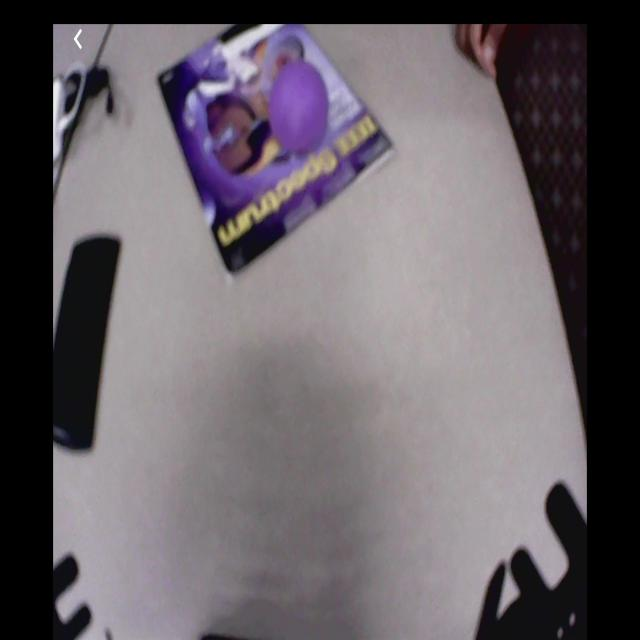ball: (271, 65, 328, 155)
